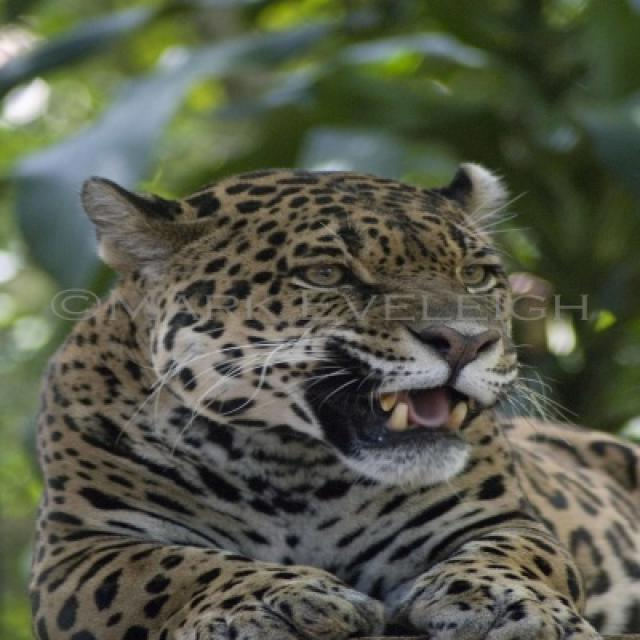Jaguar: (27, 163, 638, 638)
